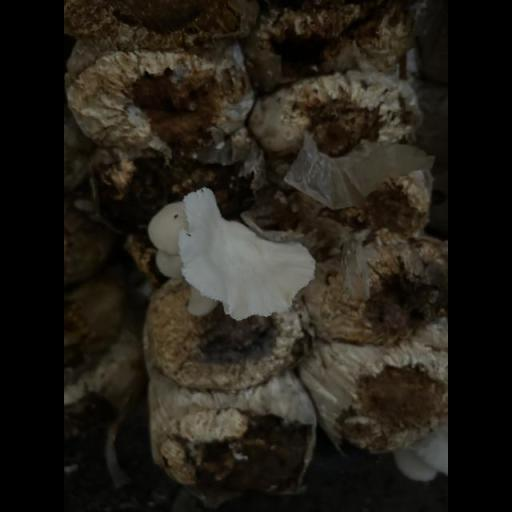White Oyster Mushroom: (130, 180, 324, 327)
